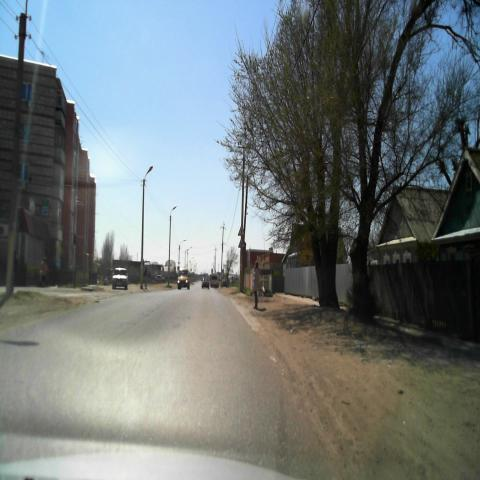1_23: (238, 237, 246, 248)
2_3_2: (238, 225, 244, 235)
